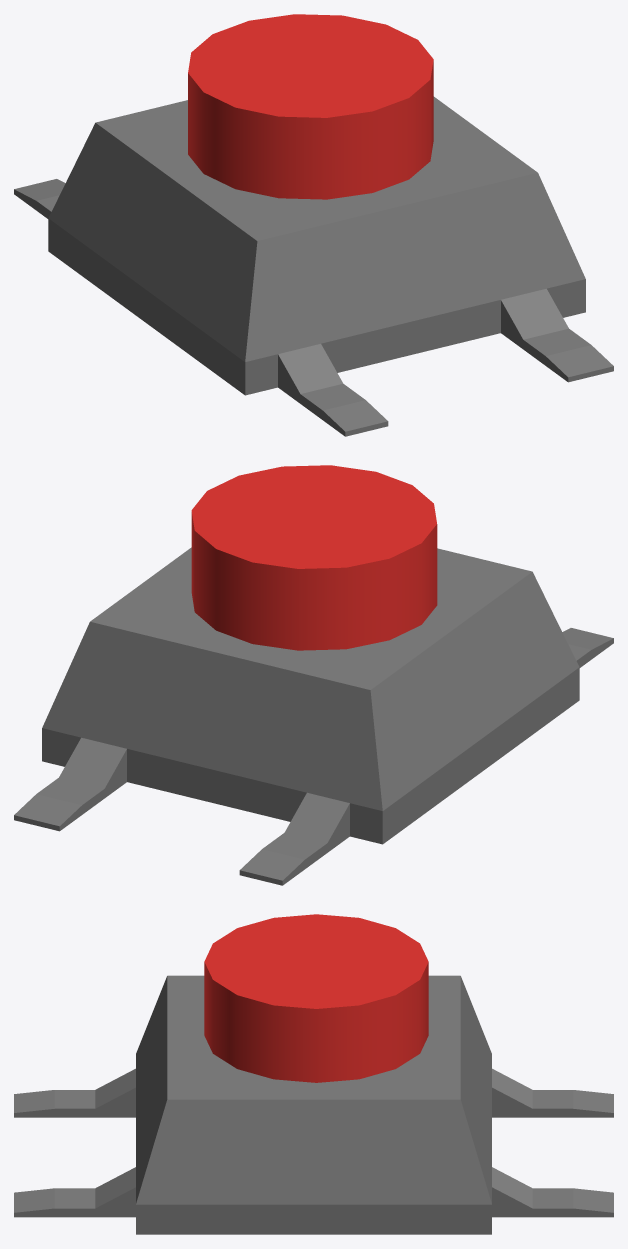
The model's file is Boton.fbx.
3 renders of one model, top to bottom at view 1: azimuth 30°, elevation 25°; view 2: azimuth 150°, elevation 25°; view 3: azimuth 270°, elevation 25°, orthographic. The views are drawn at different scales.
Visible parts, largest first — view 1: Cylinder.005; view 2: Cylinder.005; view 3: Cylinder.005.
Boxes of the visible parts, x1=… form: Cylinder.005: x1=14, y1=14, x2=613, y2=436; Cylinder.005: x1=14, y1=465, x2=613, y2=885; Cylinder.005: x1=14, y1=914, x2=613, y2=1234.
Size of the model in its own units: 0.2432 by 0.1474 by 0.4097.
